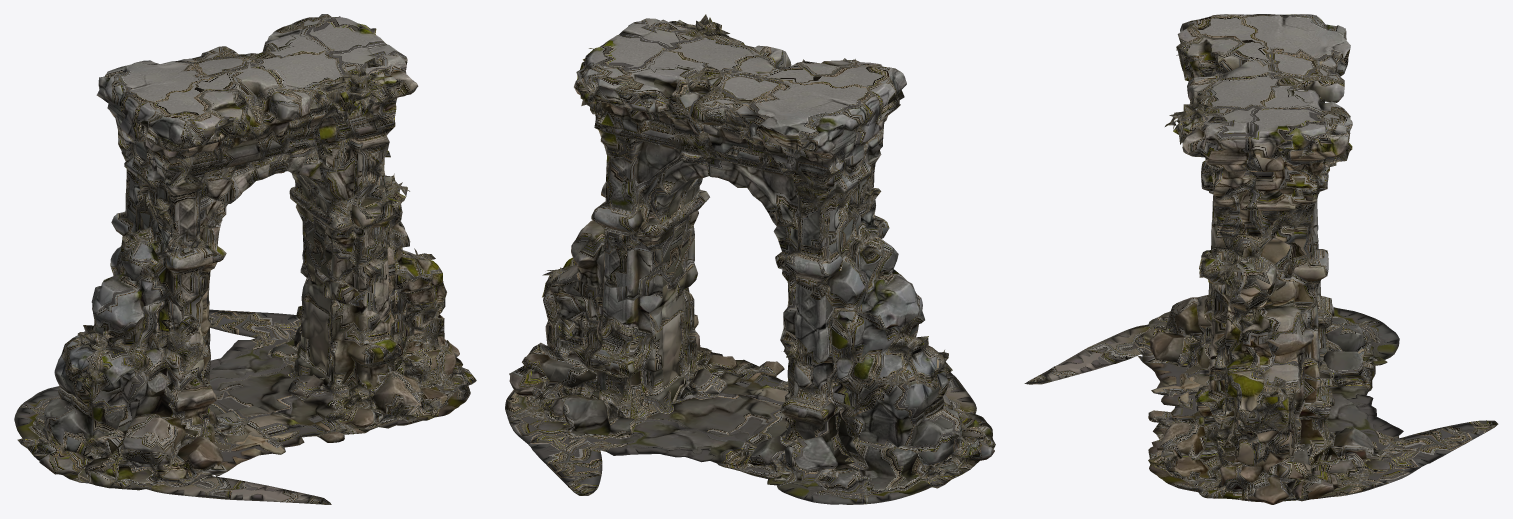
File: gate.glb
3 views of the same model, side by side, from view 1: azimuth 30°, elevation 25°; view 2: azimuth 150°, elevation 25°; view 3: azimuth 270°, elevation 25° (orthographic). The views are drawn at different scales.
Visible parts, largest first — view 1: tripo_node_7554d447_tripo_mat_7554d447_0; view 2: tripo_node_7554d447_tripo_mat_7554d447_0; view 3: tripo_node_7554d447_tripo_mat_7554d447_0.
Boxes of the visible parts, x1,y1,x2,y2 form: tripo_node_7554d447_tripo_mat_7554d447_0: [14, 14, 476, 504]; tripo_node_7554d447_tripo_mat_7554d447_0: [505, 14, 995, 504]; tripo_node_7554d447_tripo_mat_7554d447_0: [1024, 14, 1498, 504].
Size of the model in its own units: 0.9783 by 0.7415 by 0.934.
Materials: 1 (1 with a texture image).
